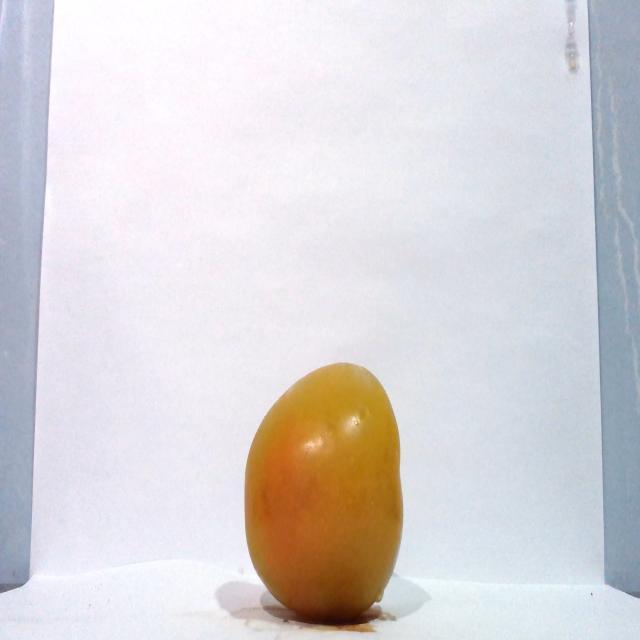Red: (242, 360, 404, 622)
